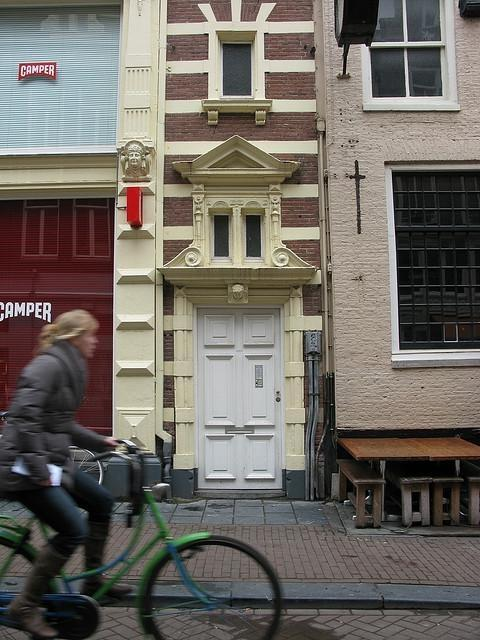bicycle: (0, 438, 282, 640)
